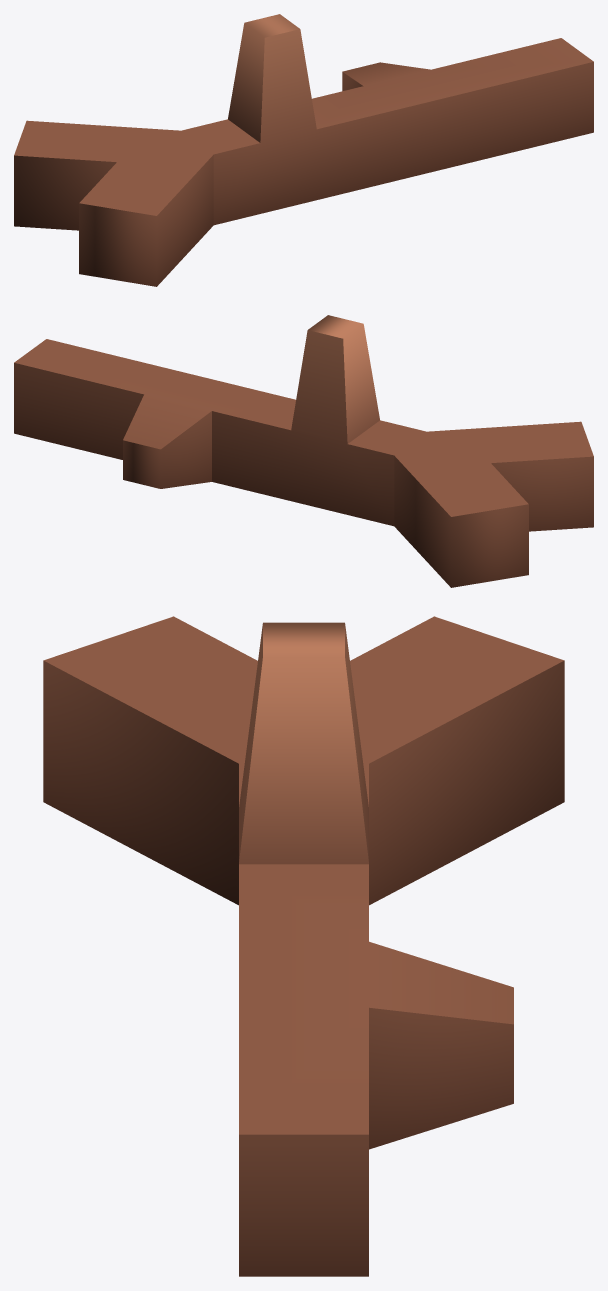
File: resource-wood.glb
3 views of the same model, one above another, from view 1: azimuth 30°, elevation 25°; view 2: azimuth 150°, elevation 25°; view 3: azimuth 270°, elevation 25° (orthographic). The views are drawn at different scales.
Parts seen in each view (by area): view 1: resource-wood; view 2: resource-wood; view 3: resource-wood.
Boxes of the visible parts, x1,y1,x2,y2 form: resource-wood: [14, 14, 593, 286]; resource-wood: [14, 315, 593, 587]; resource-wood: [43, 616, 564, 1276].
Bounding box in the file's own units: 1.97 × 0.6001 × 0.837.
